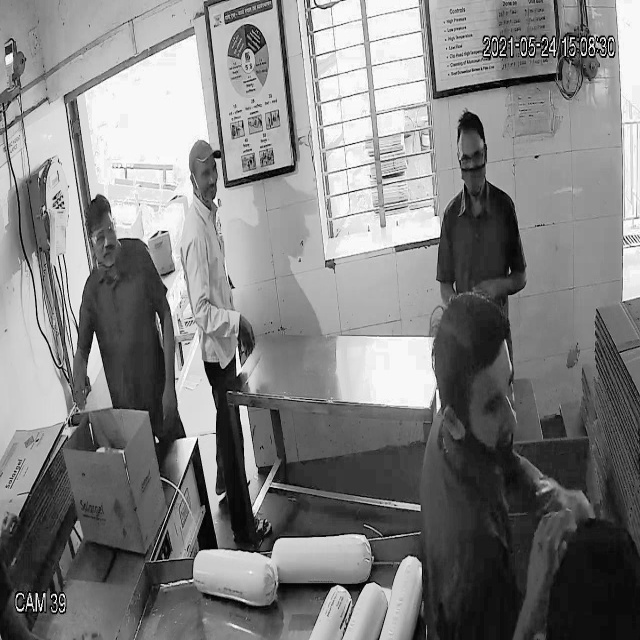Gafas: (82, 219, 120, 250), (456, 145, 488, 172)
Sin_gafas: (185, 161, 224, 186)
